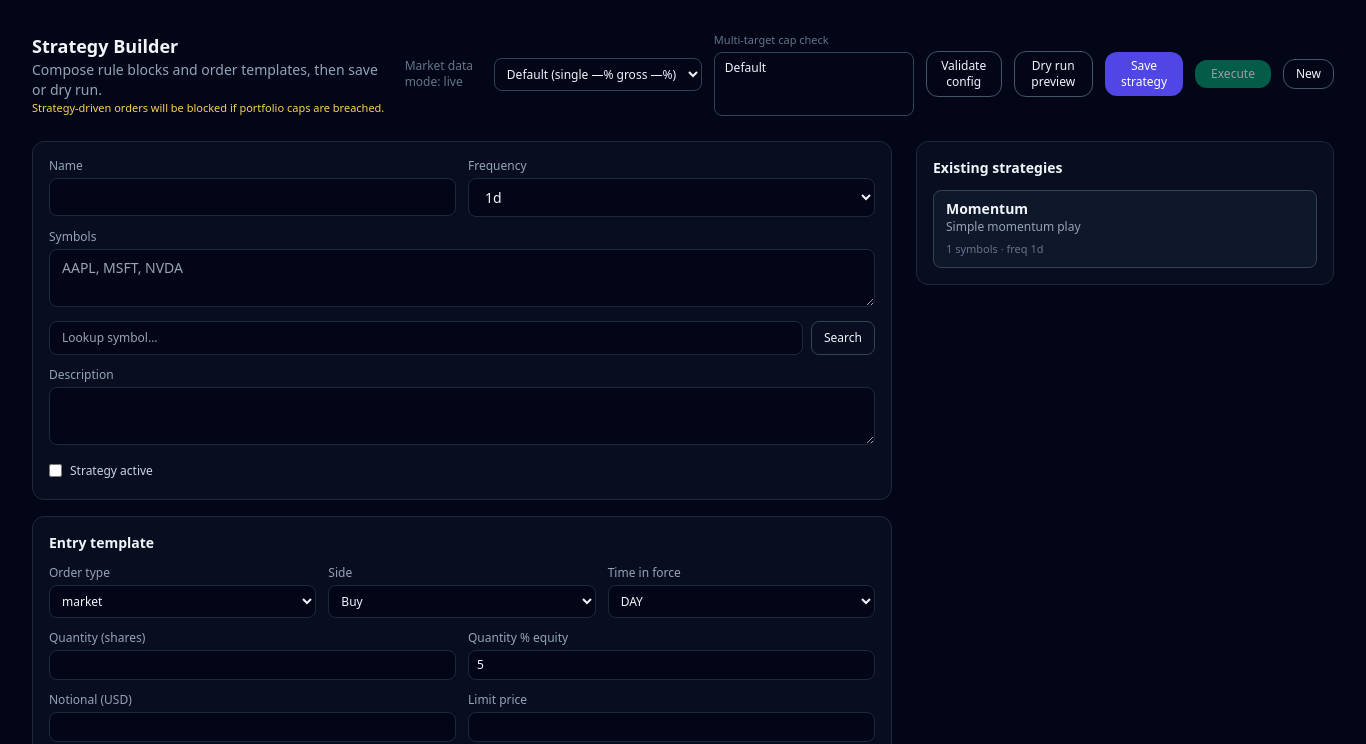
Test case: StrategyBuilder › renders list, selects a strategy, and updates dry-run status
Click the text "Momentum": click(987, 208) left=946, top=198, right=1028, bottom=218
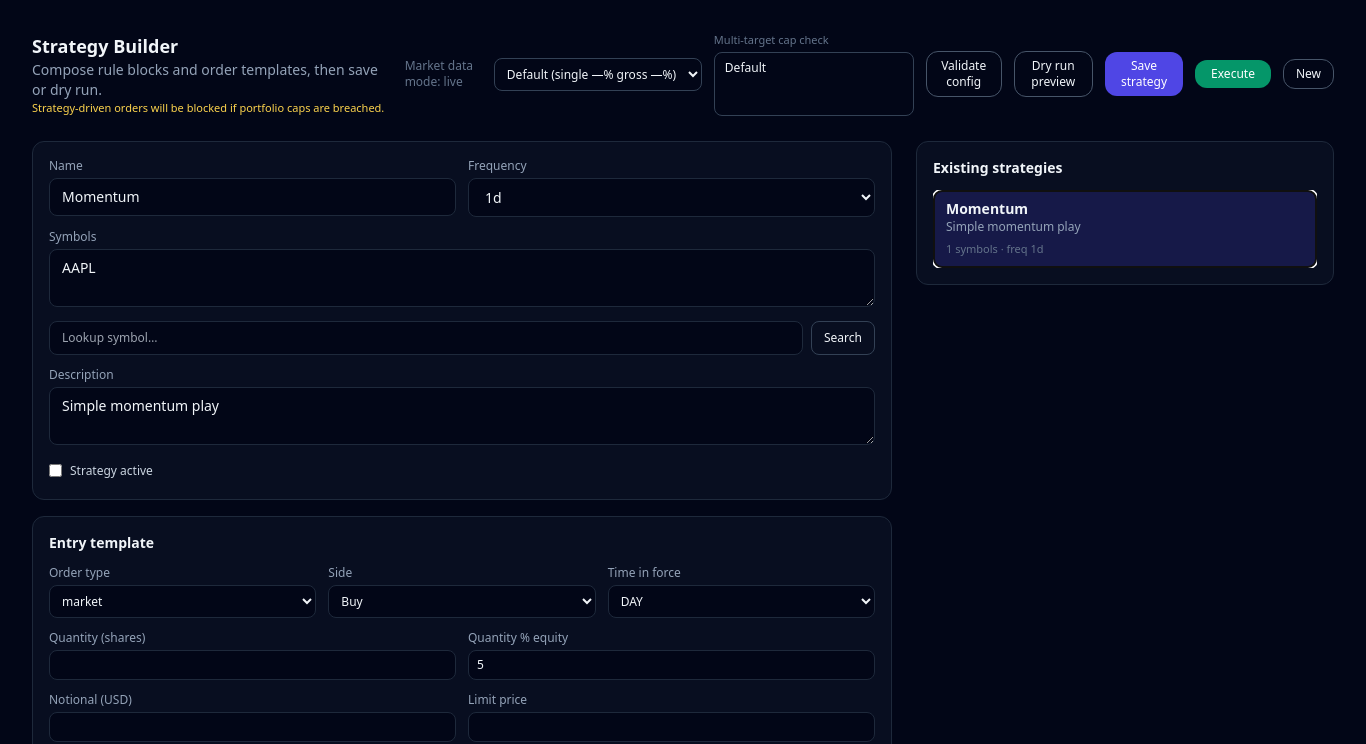
Expected: the field showing "Momentum" below "Name" is shown, left=49, top=178, right=456, bottom=216
Click the button "Dry run preview": click(1053, 74) left=1014, top=51, right=1093, bottom=97
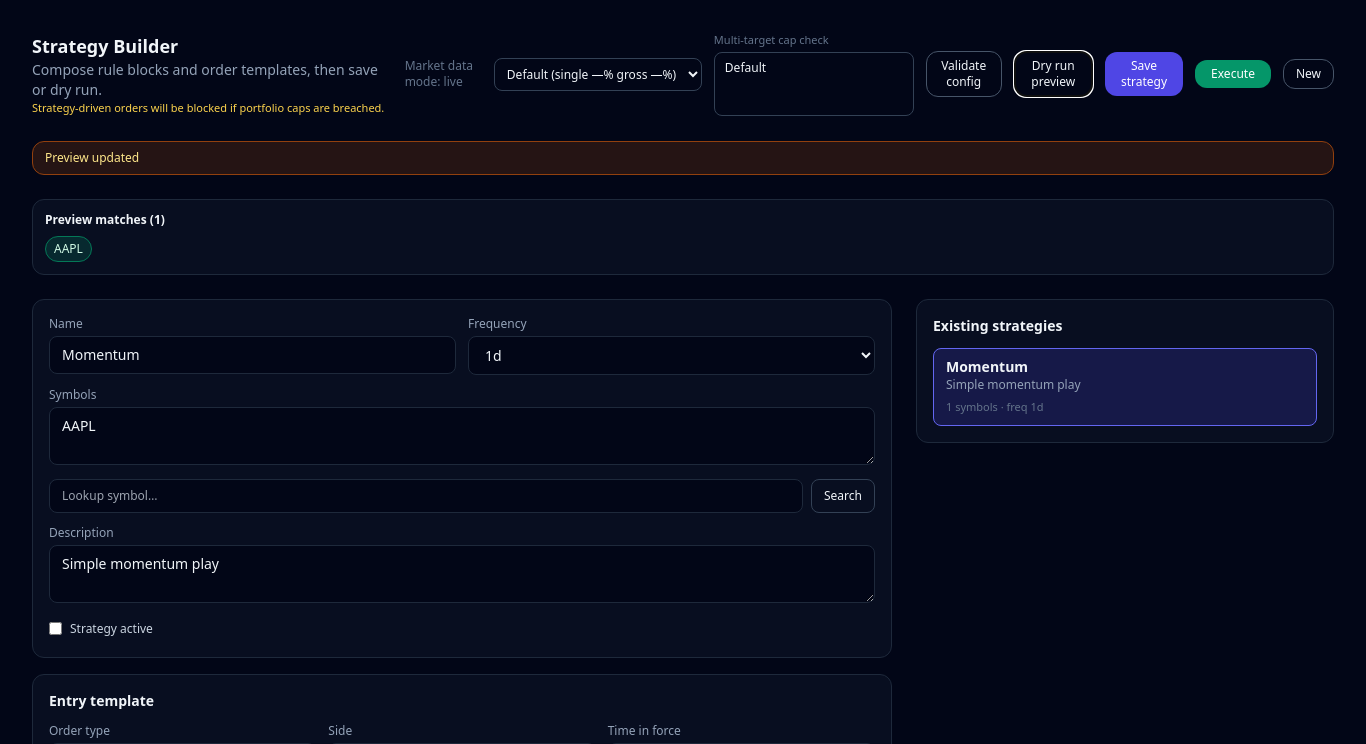
Expected: the text "Preview updated" is shown, left=32, top=140, right=1334, bottom=174
